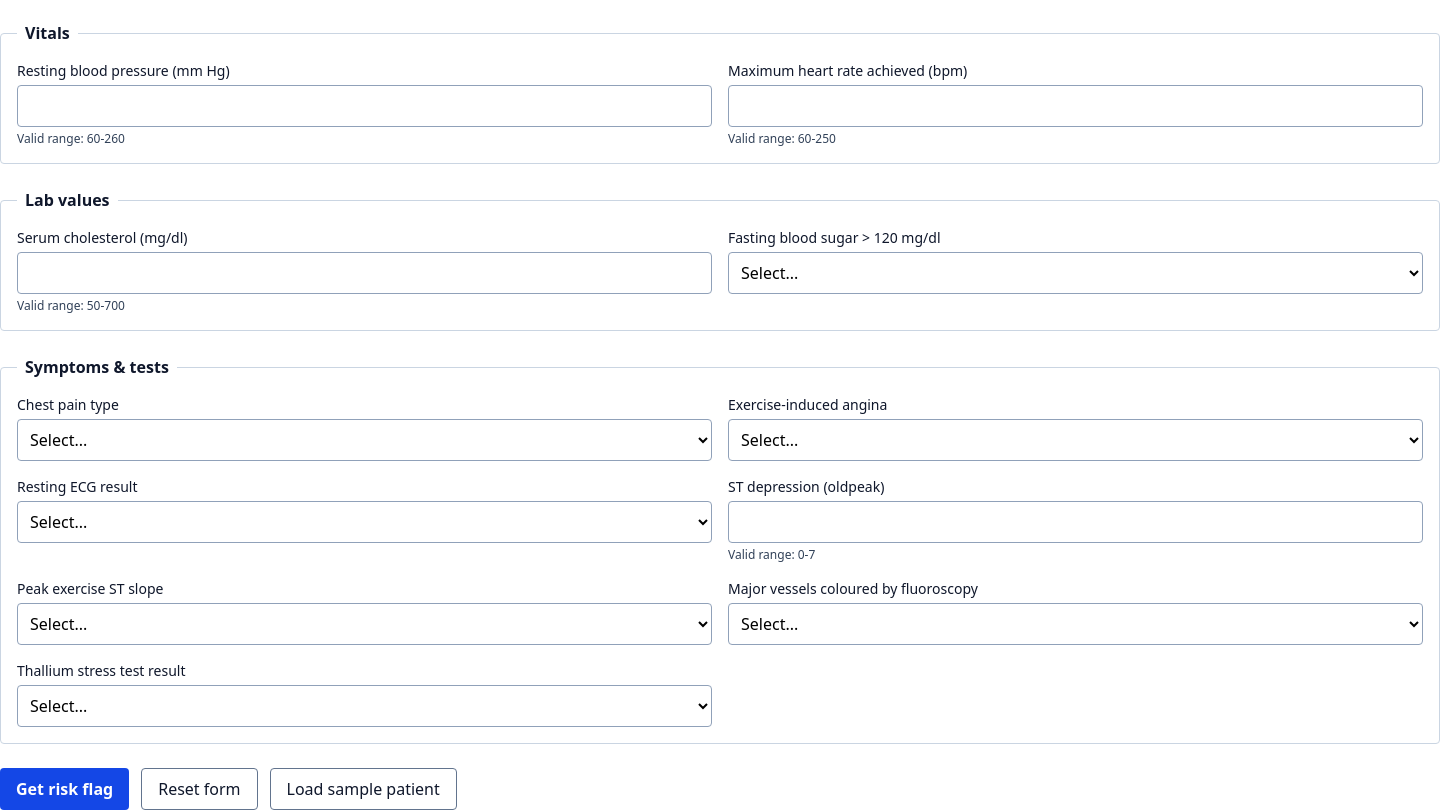
Test: ScorePage › shows an error with a Retry button when the API fails
(page scrolled)
Click the button "Load sample patient".
click(363, 789)  # box [270,768,457,809]
(page scrolled)
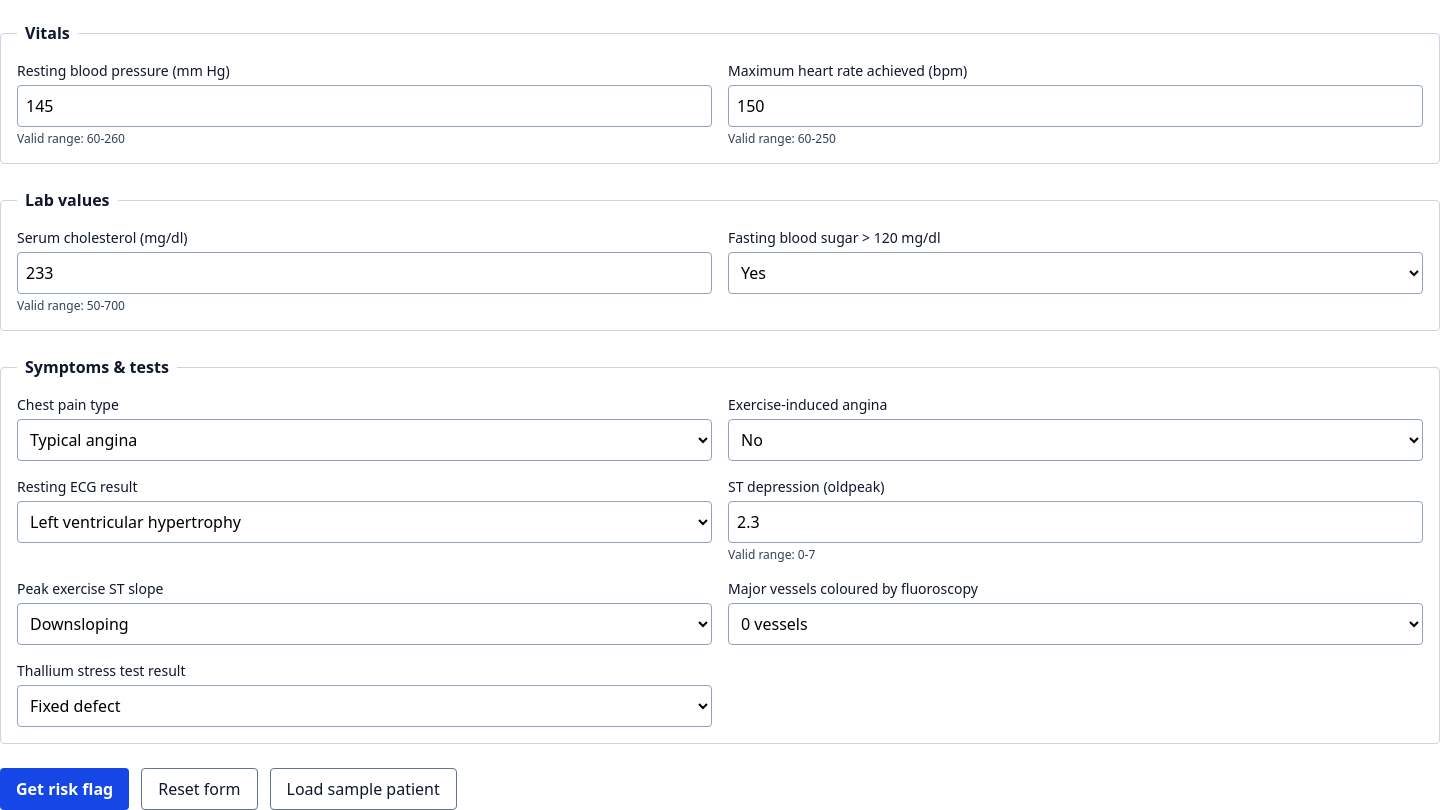
Click the button "Get risk flag".
click(65, 789)  # box [0,768,129,809]
(page scrolled)
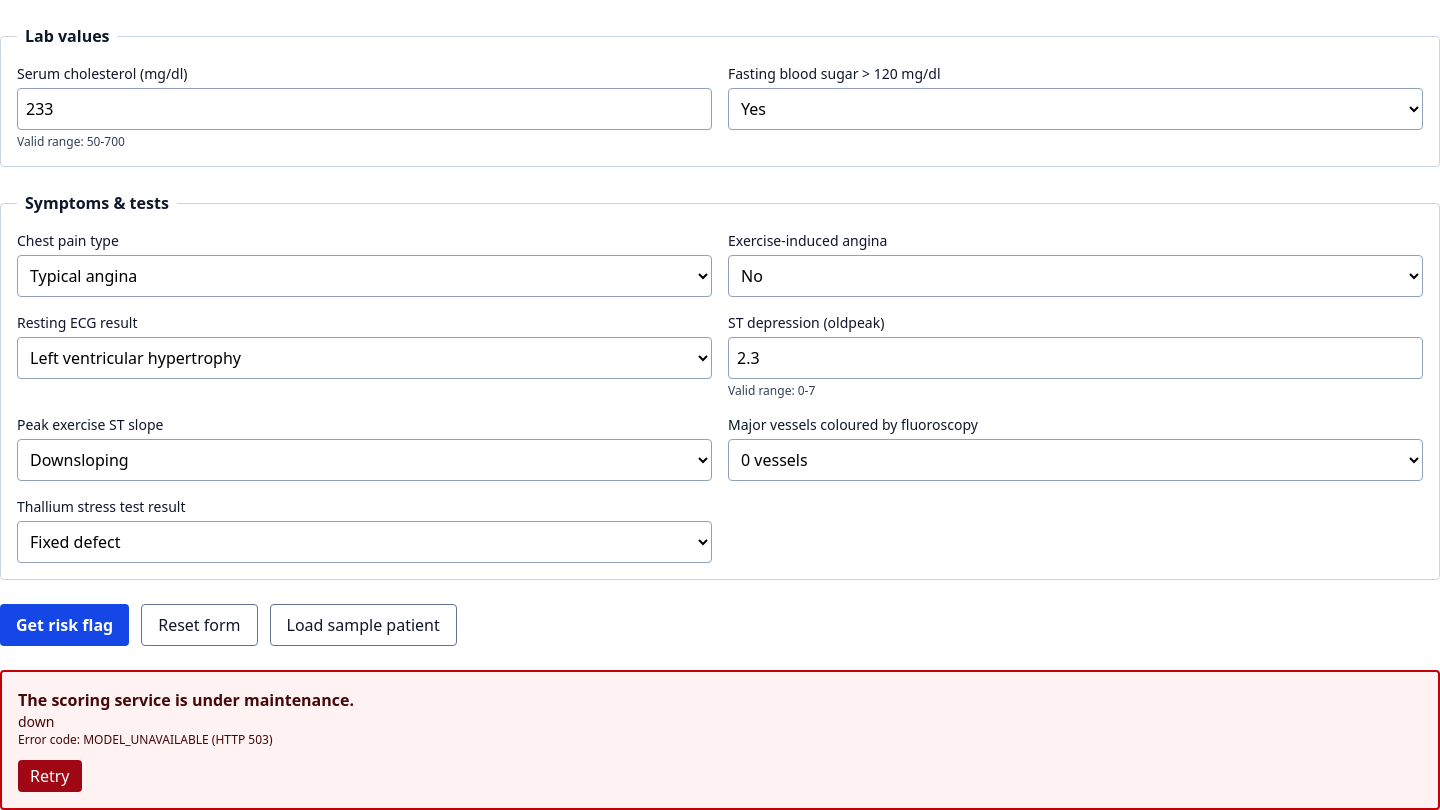
Result: the message is shown at [0,670,1439,809]
Result: the button "Retry" is shown at [18,760,82,792]
